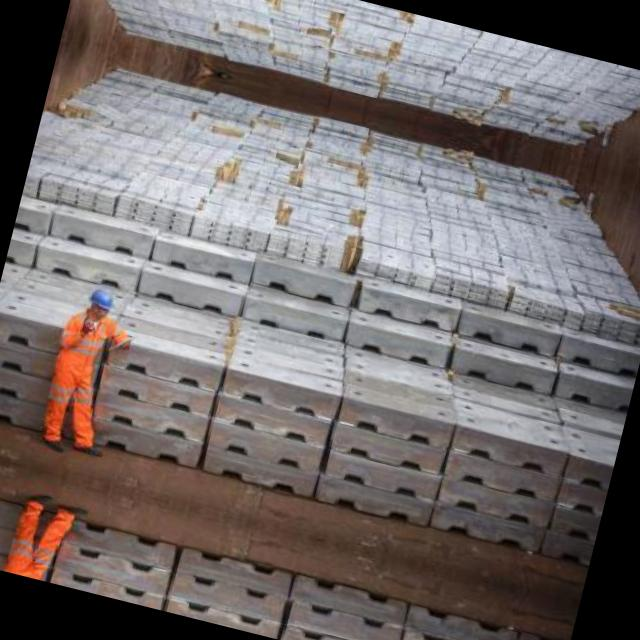helmet: (80, 282, 118, 324)
